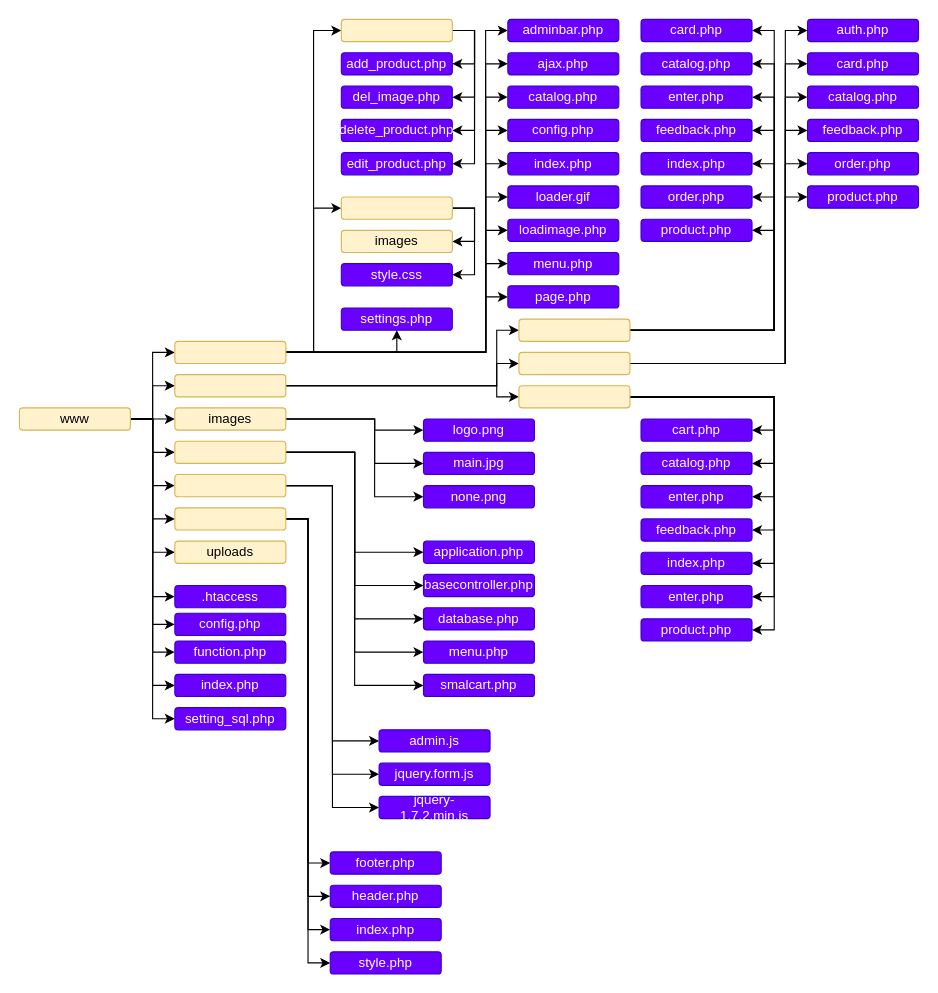
The diagram is 938 pixels wide and 993 high, and some of its shapes have lost their labels. Here are the shapes that lost their labels. From the top down, the box of each, then its label:
(340, 18, 452, 42): action
(340, 196, 452, 219): design
(518, 318, 630, 341): controllers
(174, 340, 286, 364): admin
(518, 351, 630, 375): models
(174, 374, 286, 397): application
(518, 385, 630, 408): views
(174, 440, 286, 463): lib
(174, 473, 286, 497): script
(174, 507, 286, 530): templates
